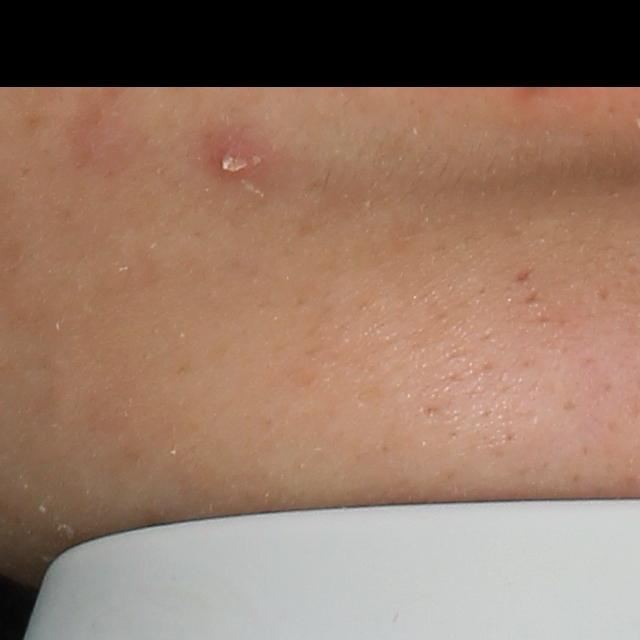atrophic_scar: (522, 285, 544, 307), (514, 267, 533, 281)
